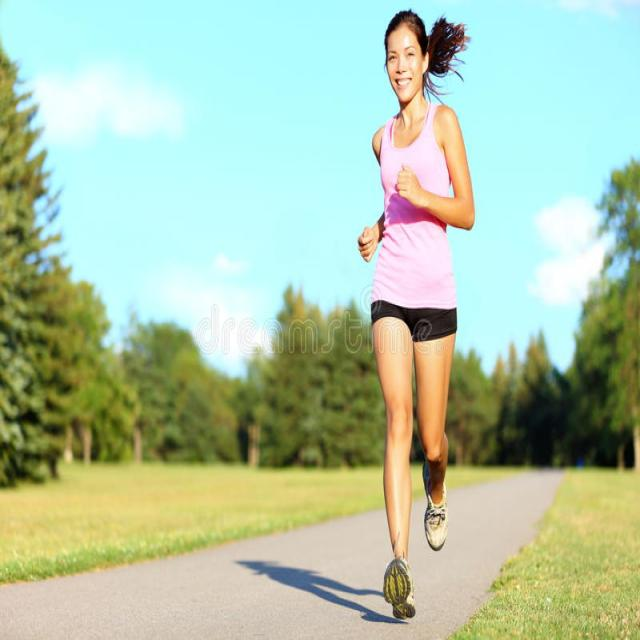running: (358, 5, 479, 625)
